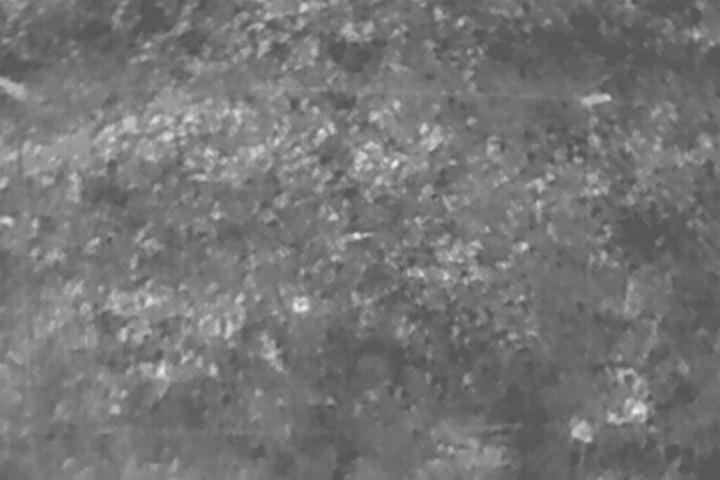landmine: (293, 295, 309, 313)
